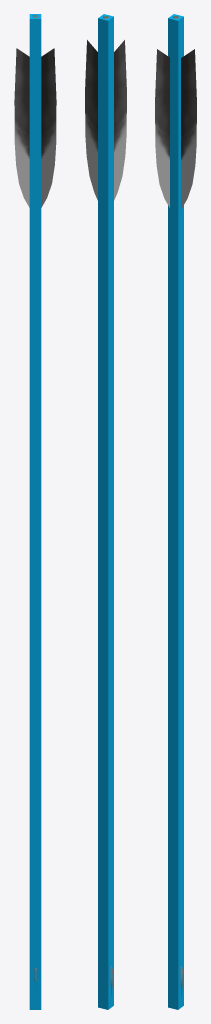
The model's file is JWC_Arrow_A_01.fbx.
The picture shows the model from 3 angles, left to right: view 1: azimuth 90°, elevation 25°; view 2: azimuth 150°, elevation 25°; view 3: azimuth 330°, elevation 25°; orthographic projection.
Parts seen in each view (by area): view 1: C_JWC_Arrow_A_01, JWC_Arrow_A_01; view 2: C_JWC_Arrow_A_01, JWC_Arrow_A_01; view 3: C_JWC_Arrow_A_01, JWC_Arrow_A_01.
Part boxes in pixels (x1=…): C_JWC_Arrow_A_01: x1=29, y1=14, x2=41, y2=1009; JWC_Arrow_A_01: x1=14, y1=15, x2=56, y2=998; C_JWC_Arrow_A_01: x1=98, y1=14, x2=113, y2=1009; JWC_Arrow_A_01: x1=85, y1=16, x2=126, y2=996; C_JWC_Arrow_A_01: x1=168, y1=14, x2=183, y2=1009; JWC_Arrow_A_01: x1=155, y1=16, x2=196, y2=996.
Size of the model in its own units: 0.0394 by 1.18 by 0.0455.
